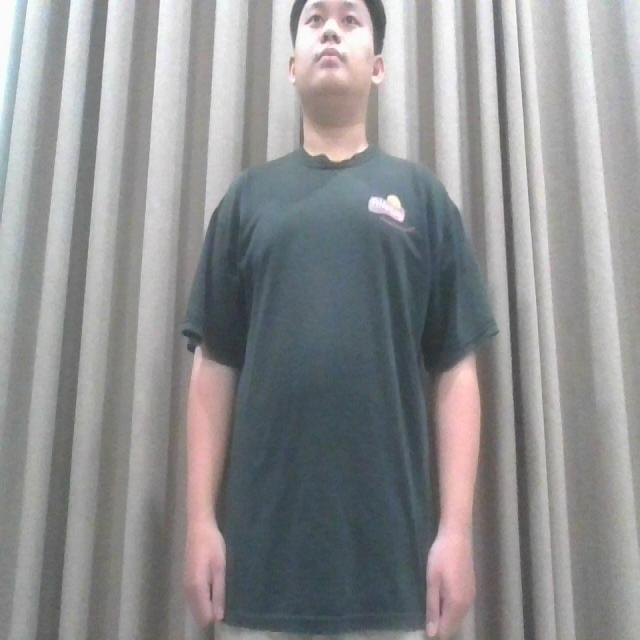T_shirt: (183, 149, 500, 632)
